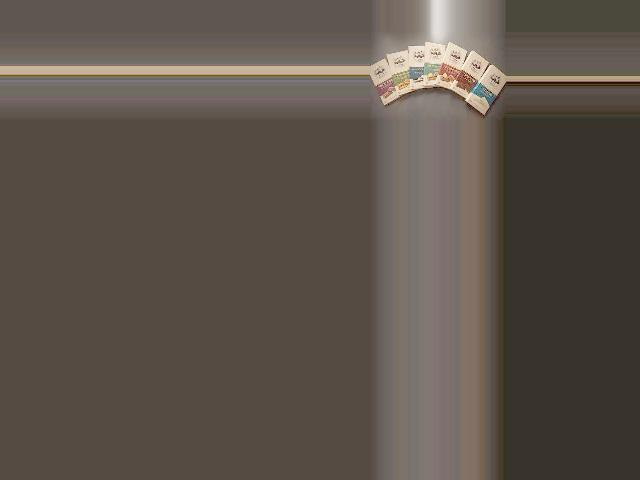chocolate: (465, 62, 505, 118)
